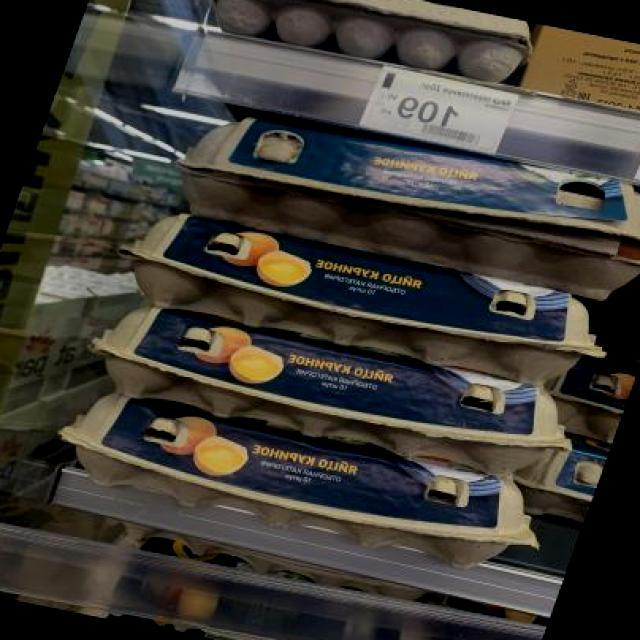Eggs: (157, 96, 640, 304), (42, 383, 554, 574), (77, 294, 587, 483), (106, 206, 618, 392), (516, 431, 612, 526)
